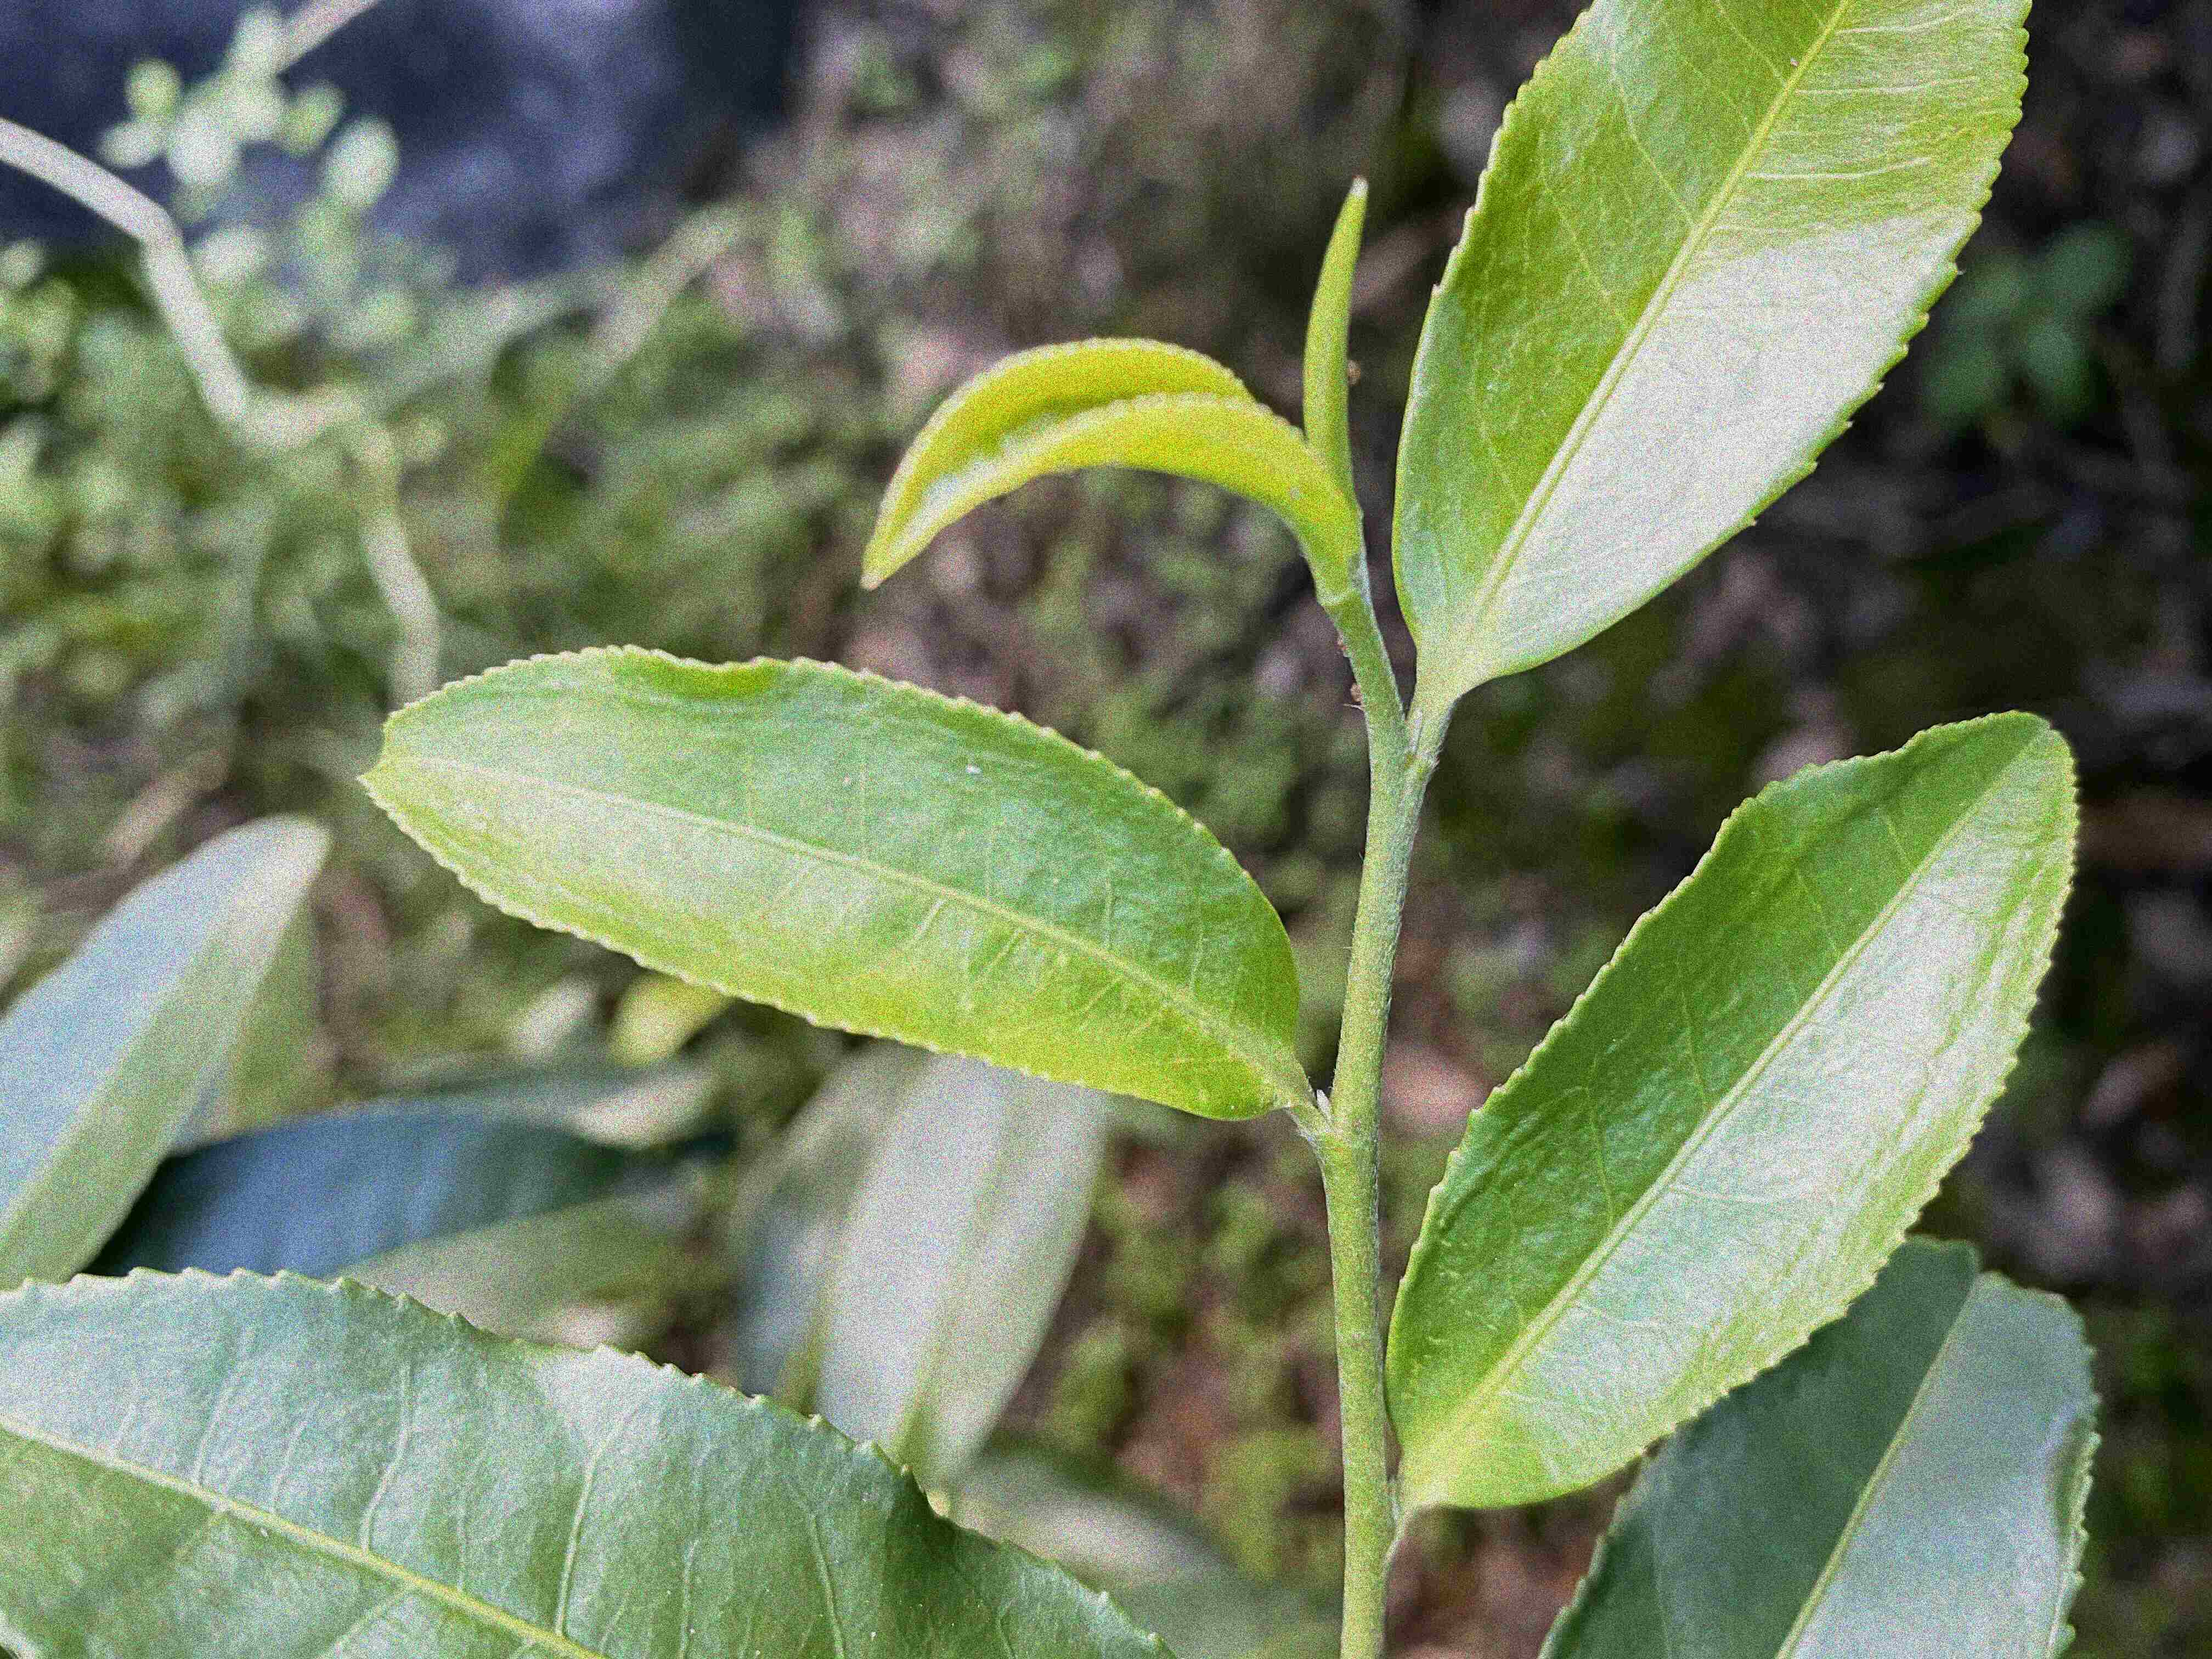healthy: (1383, 708, 2085, 1511), (0, 1260, 1176, 1657), (355, 638, 1310, 1122), (1386, 2, 2036, 683)
